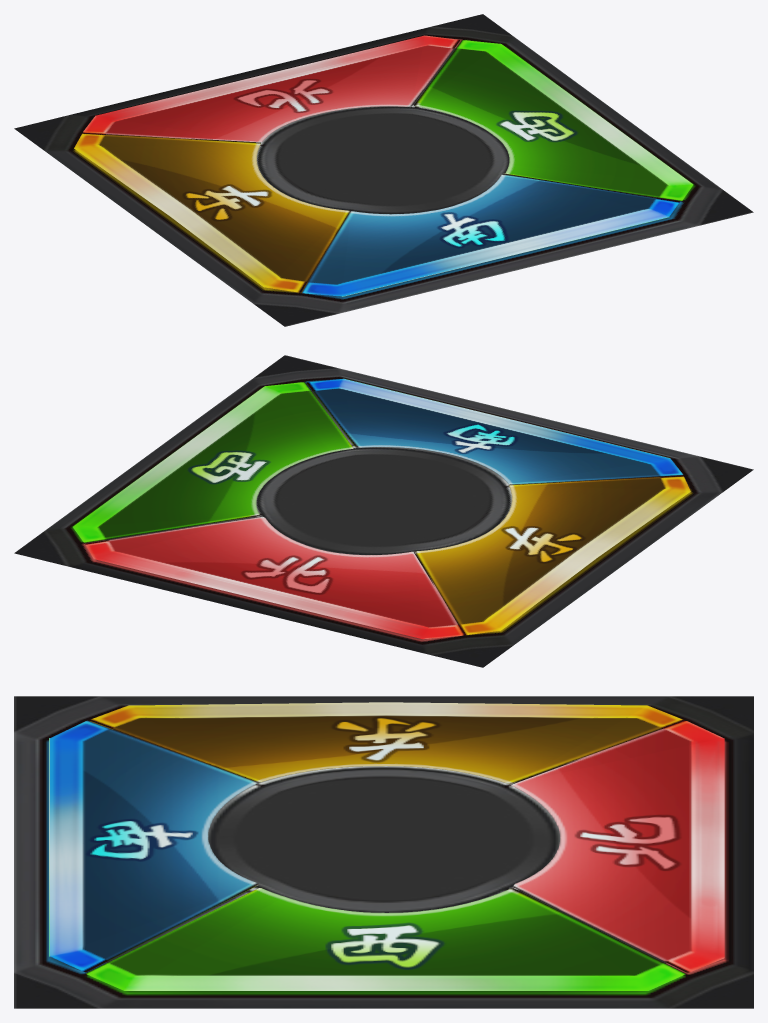
Rendered from texiao.fbx.
The picture shows the model from 3 angles, top to bottom: view 1: azimuth 30°, elevation 25°; view 2: azimuth 150°, elevation 25°; view 3: azimuth 270°, elevation 25°; orthographic projection. The views are drawn at different scales.
Visible parts, largest first — view 1: dizuo, nan, xi, dong, bei; view 2: dizuo, bei, xi, dong, nan; view 3: dizuo, dong, bei, nan, xi.
Part boxes in pixels (x1=…): dizuo: x1=14, y1=14, x2=753, y2=326; nan: x1=302, y1=173, x2=679, y2=296; xi: x1=74, y1=132, x2=350, y2=292; dong: x1=414, y1=40, x2=693, y2=200; bei: x1=83, y1=35, x2=459, y2=142; dizuo: x1=14, y1=355, x2=753, y2=667; bei: x1=85, y1=516, x2=463, y2=639; xi: x1=414, y1=475, x2=690, y2=635; dong: x1=73, y1=382, x2=353, y2=542; nan: x1=306, y1=378, x2=683, y2=484; dizuo: x1=14, y1=696, x2=753, y2=1008; dong: x1=86, y1=888, x2=685, y2=990; bei: x1=510, y1=721, x2=724, y2=972; nan: x1=49, y1=720, x2=259, y2=972; xi: x1=89, y1=702, x2=685, y2=784.
Size of the model in its own units: 4.38 by 0.1469 by 4.38.
